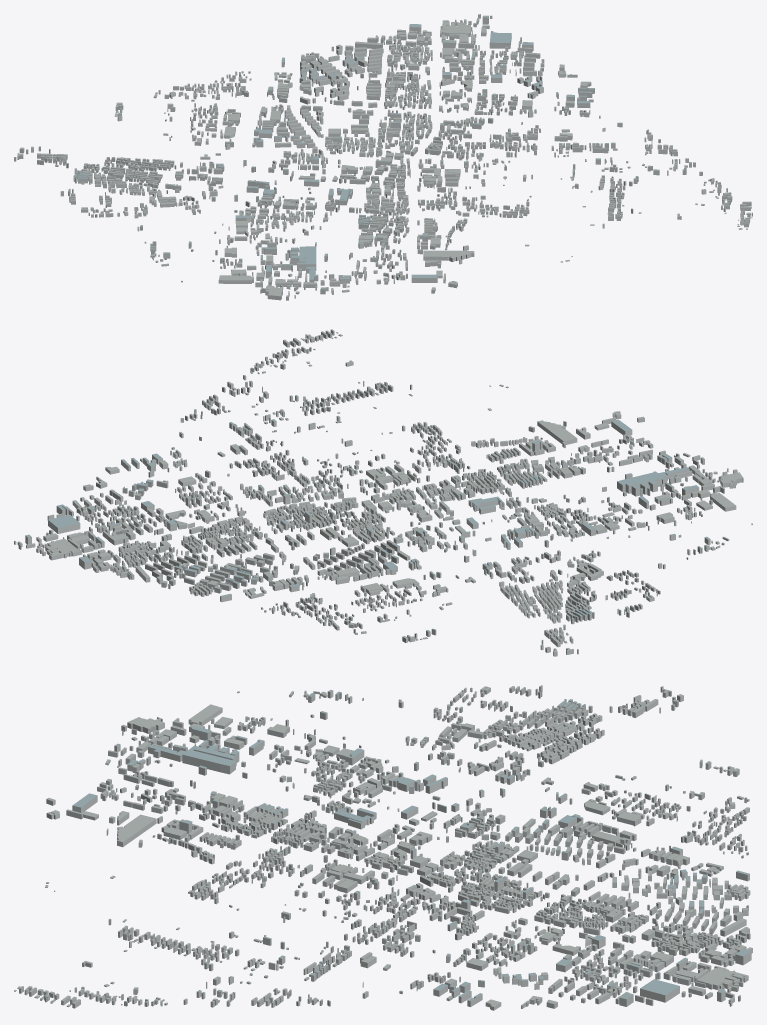
Rendered from far.glb.
The picture shows the model from 3 angles, top to bottom: view 1: azimuth 30°, elevation 25°; view 2: azimuth 150°, elevation 25°; view 3: azimuth 270°, elevation 25°; orthographic projection. The views are drawn at different scales.
Size of the model in its own units: 2119 by 32 by 2063.
